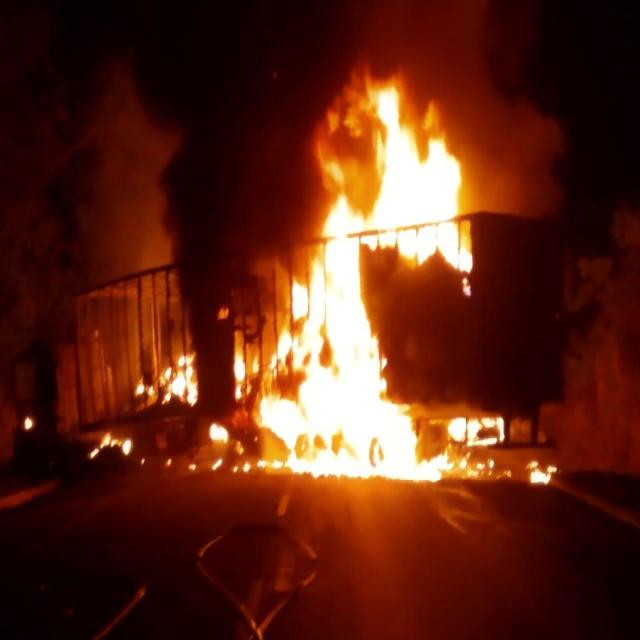fire: (230, 76, 520, 491)
